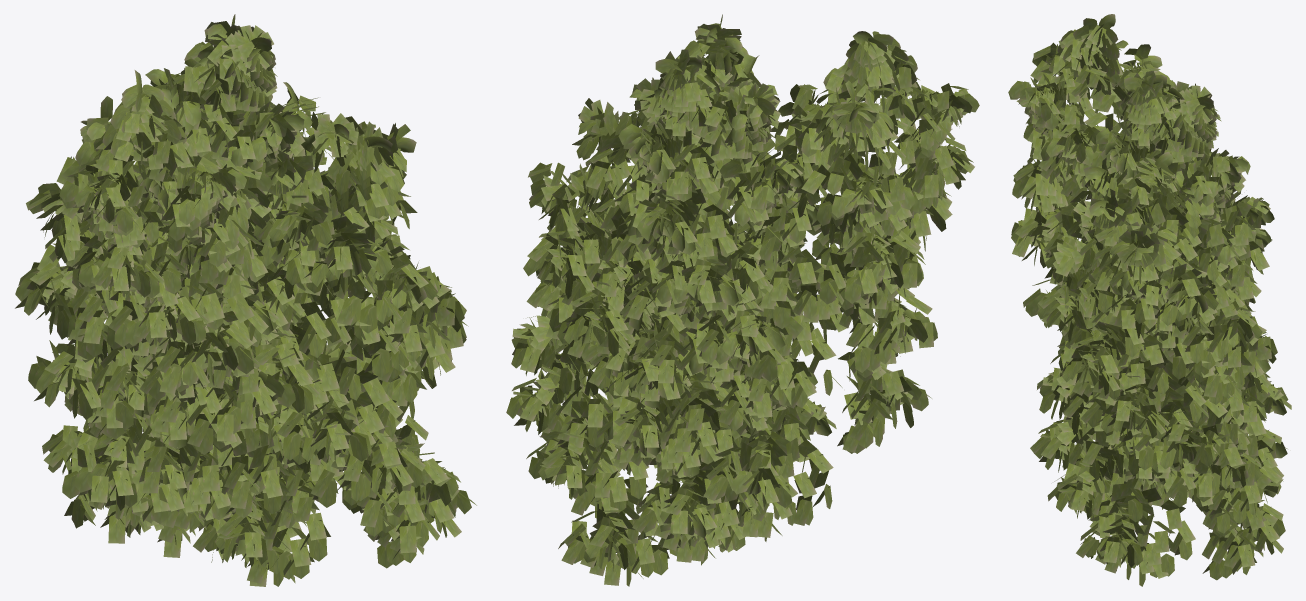
File: MESH_JA14_PhyllostachysNigraHenonis_A_LOD1.fbx
3 renders of one model, left to right at view 1: azimuth 30°, elevation 25°; view 2: azimuth 150°, elevation 25°; view 3: azimuth 270°, elevation 25°, orthographic. The views are drawn at different scales.
Visible parts, largest first — view 1: MI_LOD1_001; view 2: MI_LOD1_001; view 3: MI_LOD1_001.
Part boxes in pixels (<box>): MI_LOD1_001: <box>15,14,476,586</box>; MI_LOD1_001: <box>506,14,979,586</box>; MI_LOD1_001: <box>1008,14,1291,586</box>.
Size of what is drawn, in the model's own units: 470 by 632 by 330.
